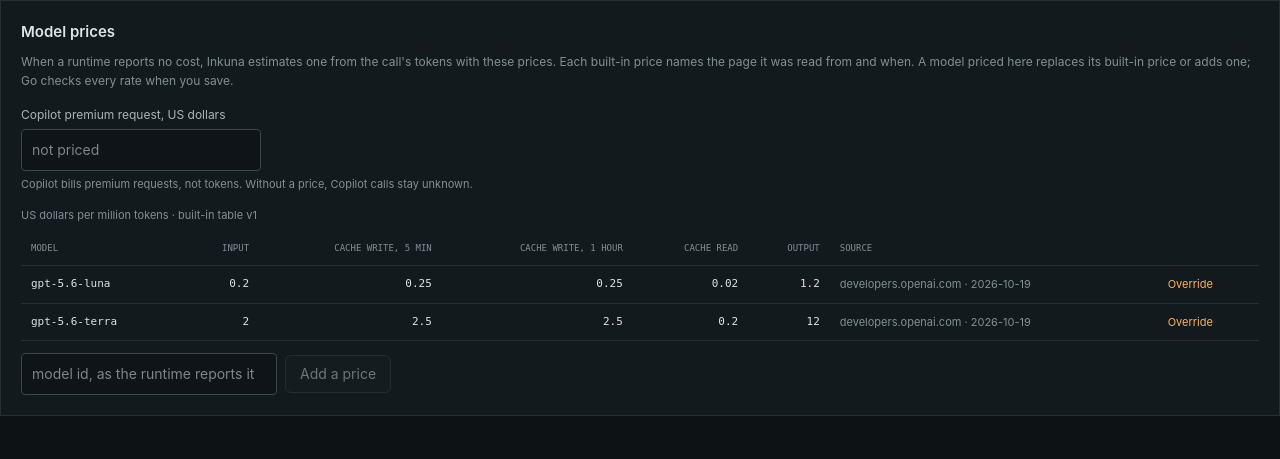
Test: PricingPanel › shows each built-in price with its source and overrides one in the draft
Later steps or results of the test are not shown.
Expected: the row named "gpt-5.6-terra price" reads "gpt-5.6-terra 2 2.5 2.5 0.2 12 developers.openai.com · 2026-10-19 Override", left=21, top=303, right=1259, bottom=341
Click the button with aria-label "Override the price of gpt-5.6-terra" at (1190,322), box left=1168, top=314, right=1213, bottom=330
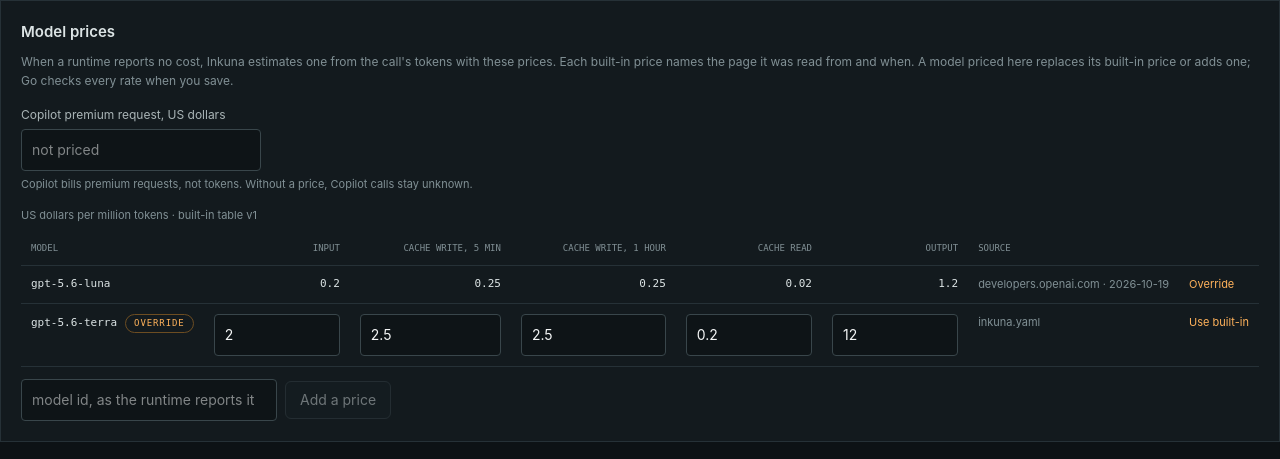
Expected: the text "override" is shown, left=125, top=314, right=194, bottom=333
Result: the text "inkuna.yaml" is shown at left=968, top=303, right=1179, bottom=366
